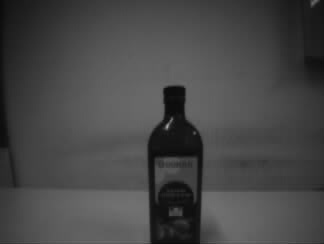Bottle: (146, 84, 204, 243)
